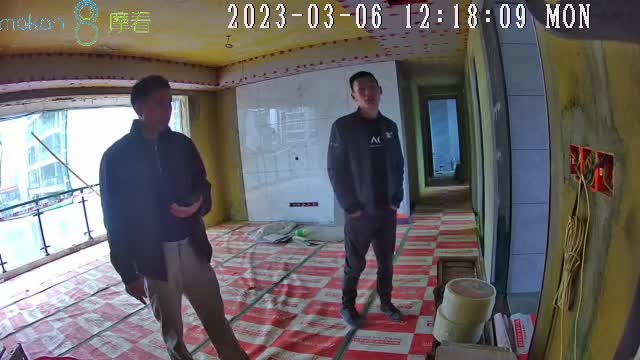people: (100, 74, 251, 360), (326, 71, 407, 325)
window: (1, 103, 188, 273)
